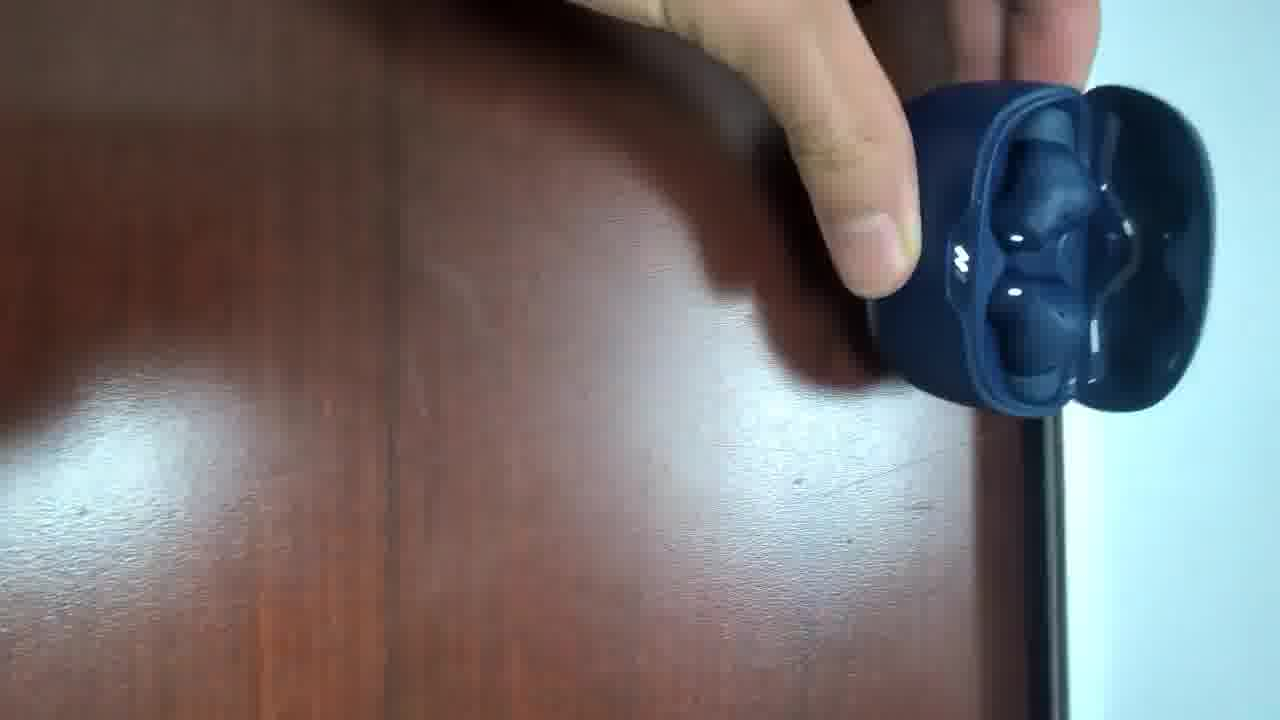Earbud: (992, 108, 1098, 249), (987, 275, 1087, 400)
